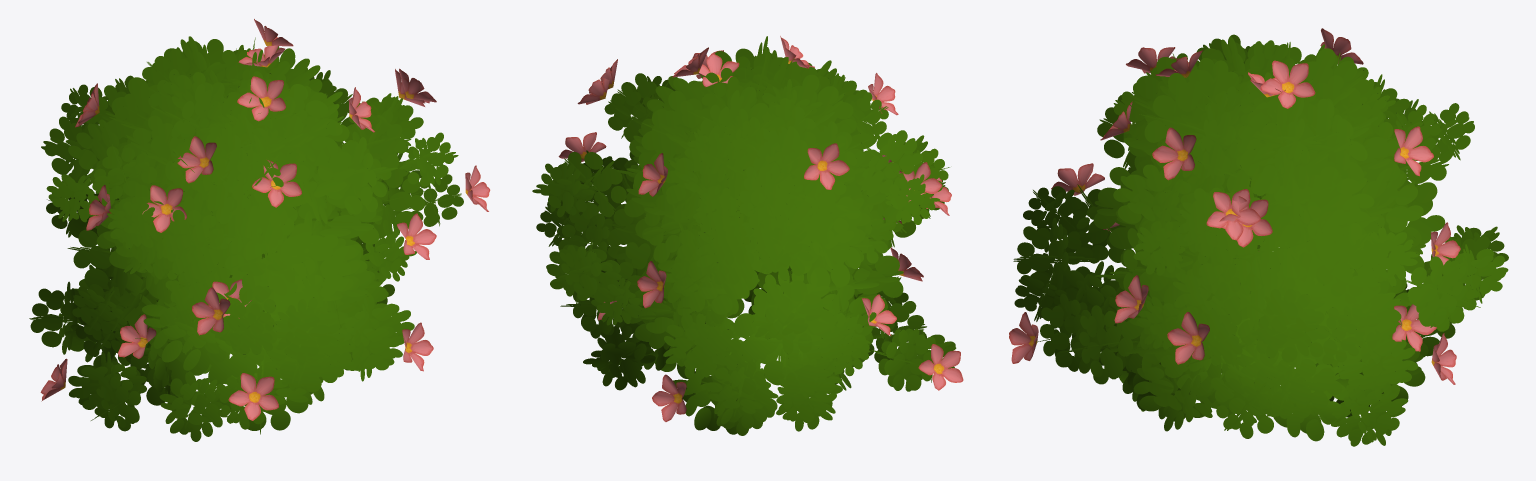
Rendered from Bush_Large_Flowers.gltf.
3 views of the same model, side by side, from view 1: azimuth 30°, elevation 25°; view 2: azimuth 150°, elevation 25°; view 3: azimuth 270°, elevation 25° (orthographic). The views are drawn at different scales.
Parts seen in each view (by area): view 1: Bush_Large_Flowers; view 2: Bush_Large_Flowers; view 3: Bush_Large_Flowers.
Boxes of the visible parts, left/top/right/bottom form: Bush_Large_Flowers: left=29, top=19, right=490, bottom=441; Bush_Large_Flowers: left=532, top=36, right=963, bottom=435; Bush_Large_Flowers: left=1009, top=28, right=1508, bottom=446.
Bounding box in the file's own units: 3.8 × 3.26 × 3.67.
Materials: 2 (2 with a texture image).
